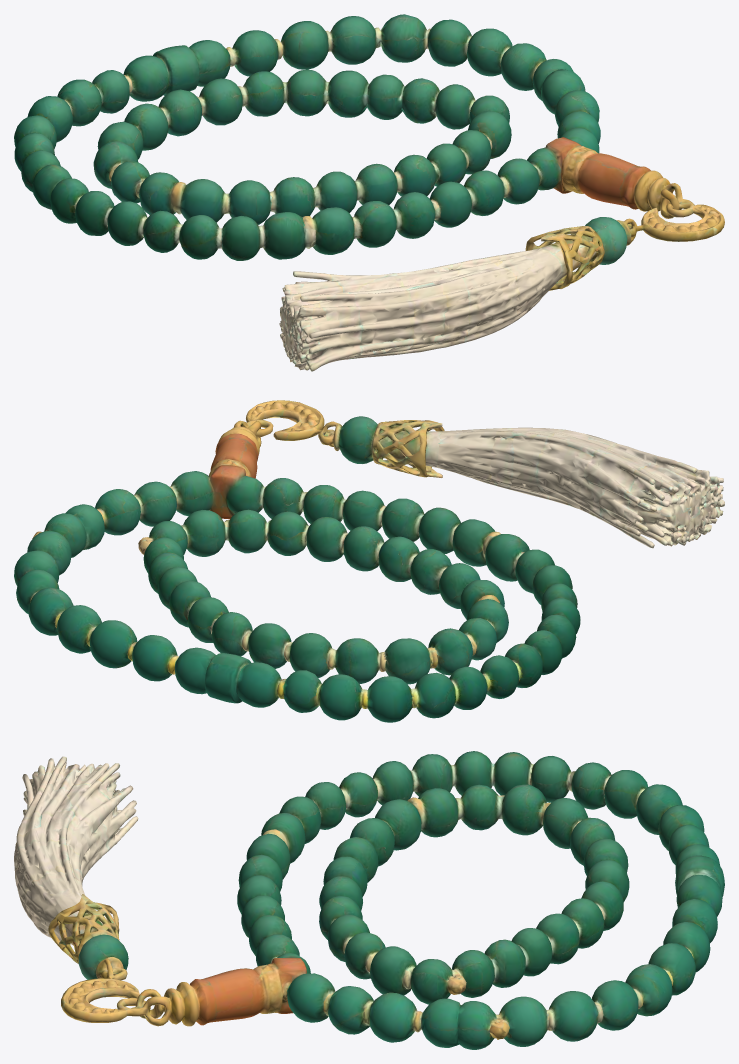
The model's file is tasbih-06-emerald-lantern.glb.
3 views of the same model, one above another, from view 1: azimuth 30°, elevation 25°; view 2: azimuth 150°, elevation 25°; view 3: azimuth 270°, elevation 25° (orthographic). The views are drawn at different scales.
Visible parts, largest first — view 1: mesh_node; view 2: mesh_node; view 3: mesh_node.
Boxes of the visible parts, left/top/right/bottom form: mesh_node: left=14, top=14, right=724, bottom=371; mesh_node: left=14, top=400, right=724, bottom=722; mesh_node: left=14, top=751, right=724, bottom=1049.
Bounding box in the file's own units: 1.71 × 0.2355 × 1.9.
1 material, 1 textured.
